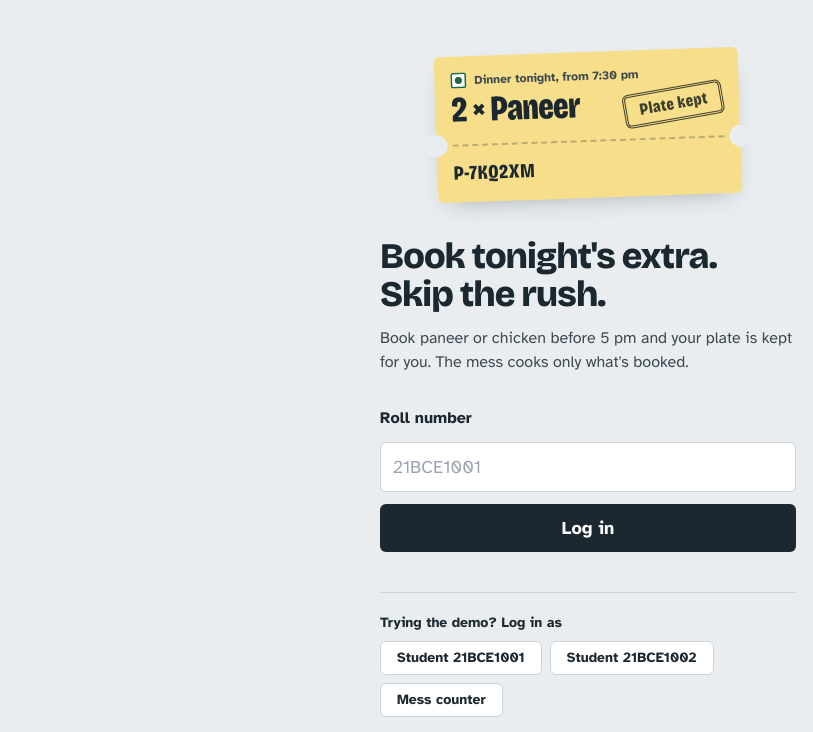
Login › logs in from a quick-login button clicked before the user list has loaded
Click the button "Student 21BCE1001" at (461, 658), box [380, 641, 542, 675]
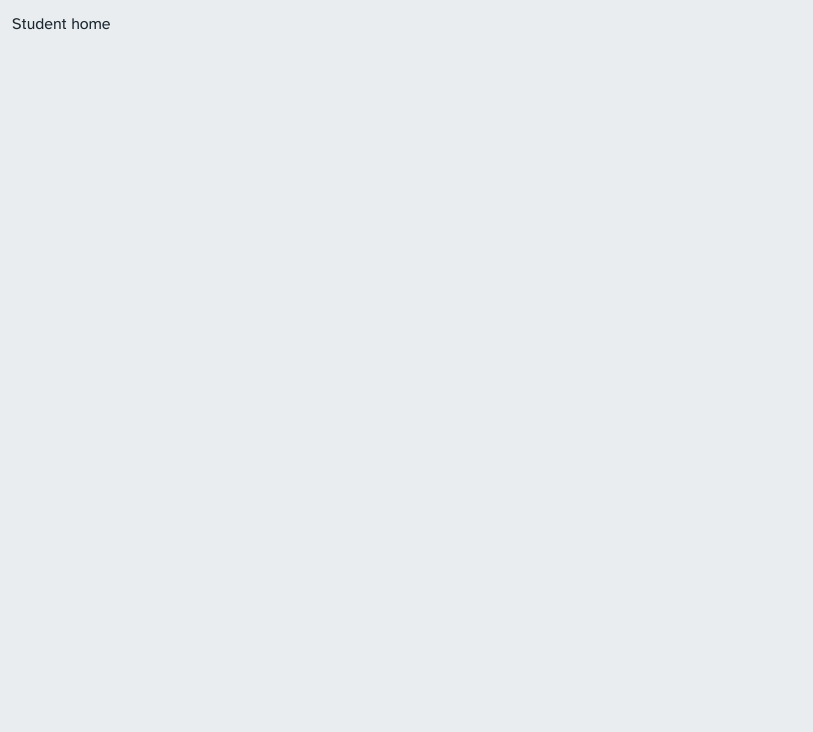
Expected: the text "Student home" is shown, [12, 14, 110, 34]
